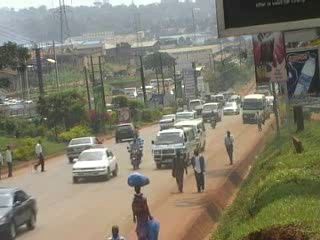Car: (0, 182, 39, 239), (71, 147, 120, 185), (64, 135, 106, 163), (111, 120, 142, 144), (158, 111, 180, 131), (220, 99, 241, 116), (192, 104, 208, 116), (228, 94, 241, 106)
Motorcycle: (125, 144, 143, 171), (206, 114, 218, 130)
